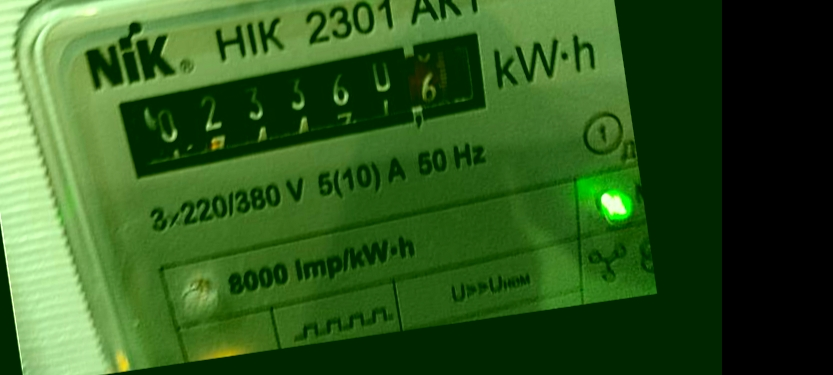0: (151, 103, 182, 149), (367, 57, 395, 97)
2: (194, 91, 225, 134)
3: (240, 83, 267, 126), (281, 75, 309, 116)
6: (323, 68, 355, 112), (416, 69, 442, 108)
screen: (92, 18, 506, 193)
